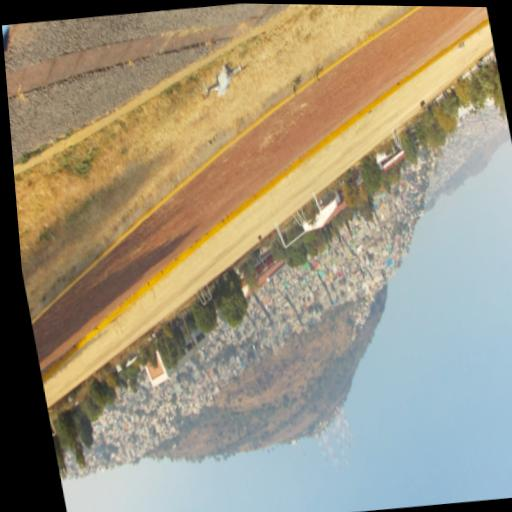drones: (194, 56, 256, 106)
